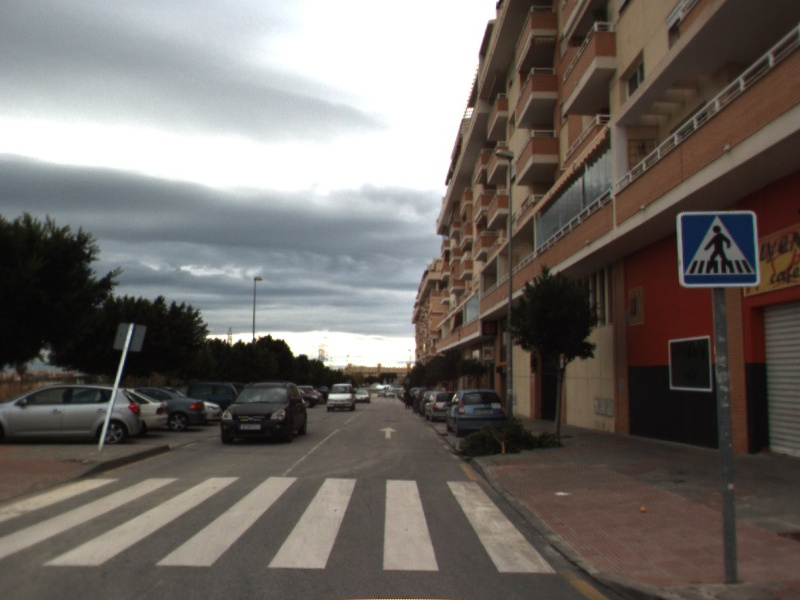STRAIGHT: (377, 425, 399, 440)
